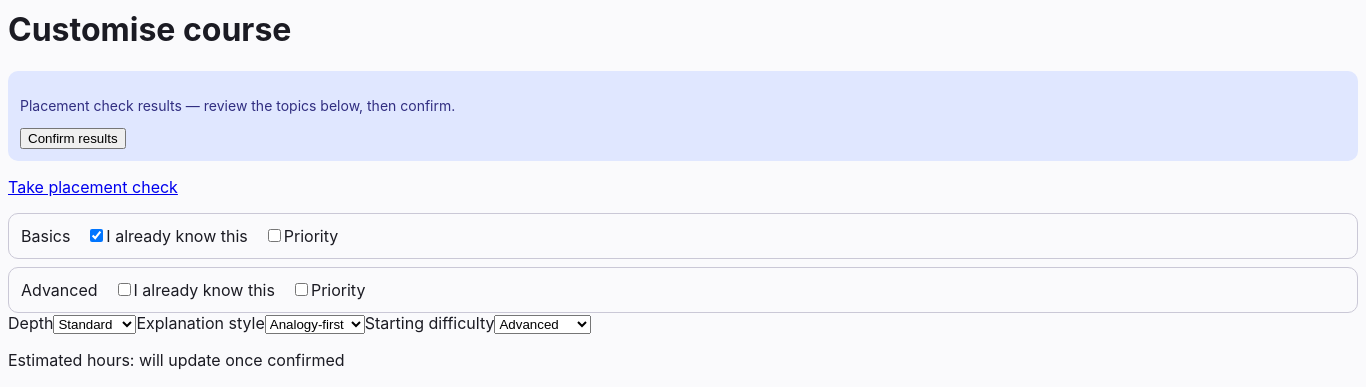
Test case: CustomizePage › applies an incoming placement-check proposal as a reviewable, not-yet-saved state (Story 2.5, AC #2)
Expected: the text "Basics" is shown, [21,226,70,246]
Expected: the checkbox named "I already know this: Basics" is checked, [90,229,103,242]
Click the button "Confirm results".
click(73, 138)  # box [20,128,126,149]
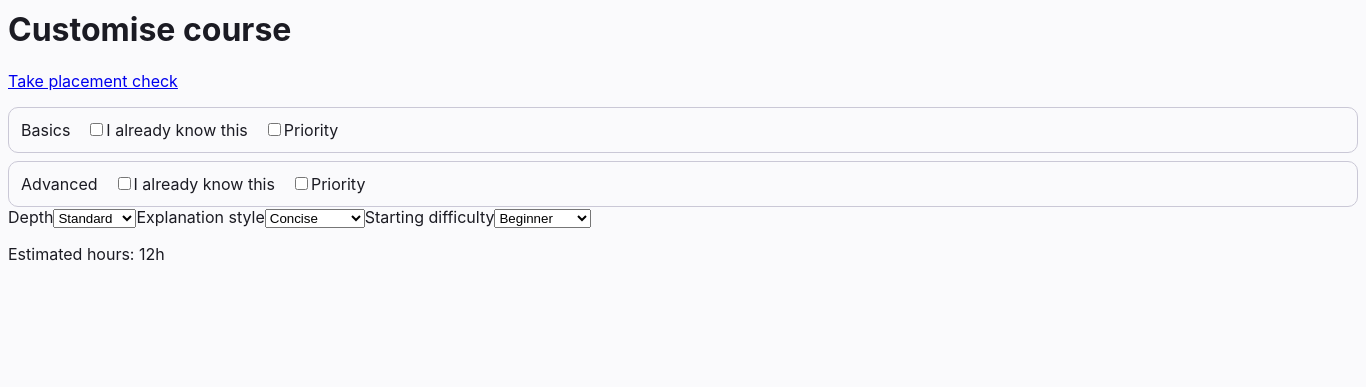
Expected: the text "Placement check results — review the topics below, then confirm." is gone
